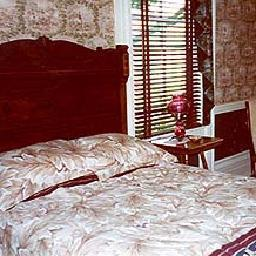Cama: (5, 143, 253, 255)
